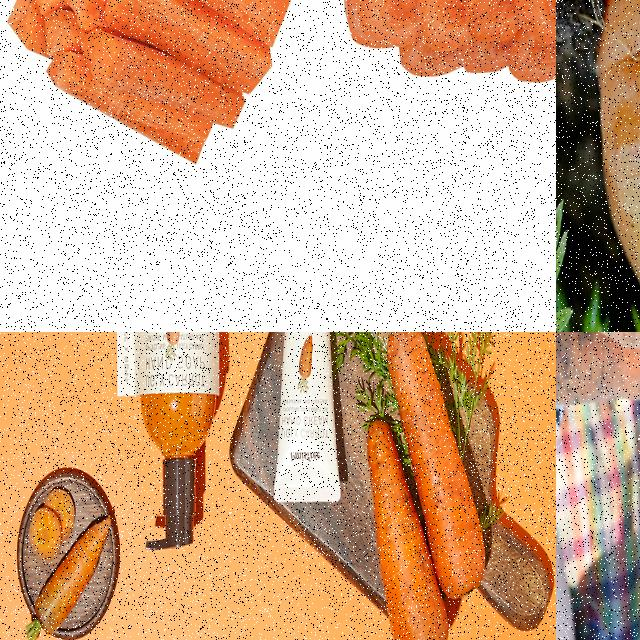carrot: (6, 0, 290, 168), (384, 332, 487, 603), (338, 0, 555, 93), (366, 414, 450, 639), (595, 0, 639, 314), (35, 512, 111, 636), (556, 332, 639, 432), (29, 490, 76, 557)
